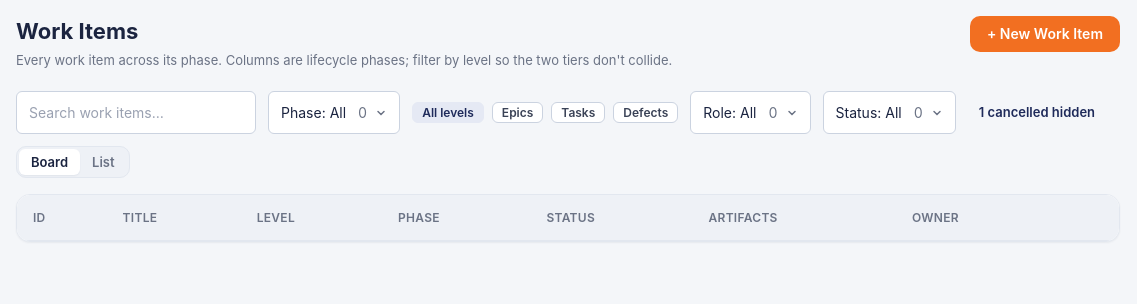
Test case: the work items board › labels a cancelled item Cancelled rather than 'Draft'
Click the button "1 cancelled hidden" at [1037, 112], box [968,99,1106,126]
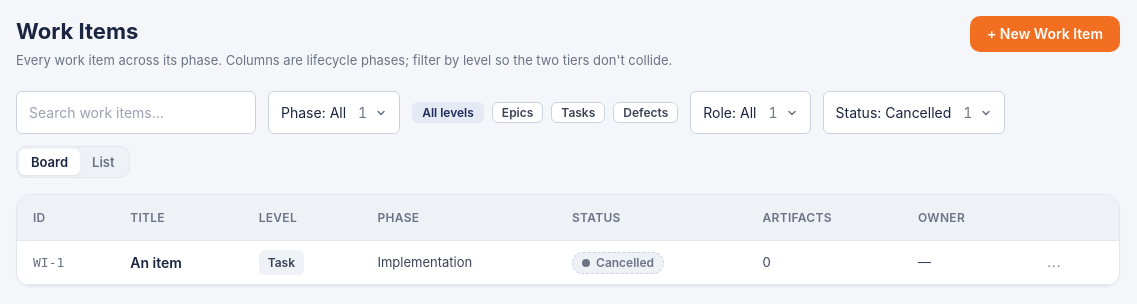
Expected: the text "An item" is shown, [130,254,182,270]
Expected: the text "Cancelled" is shown, [572,252,664,274]
